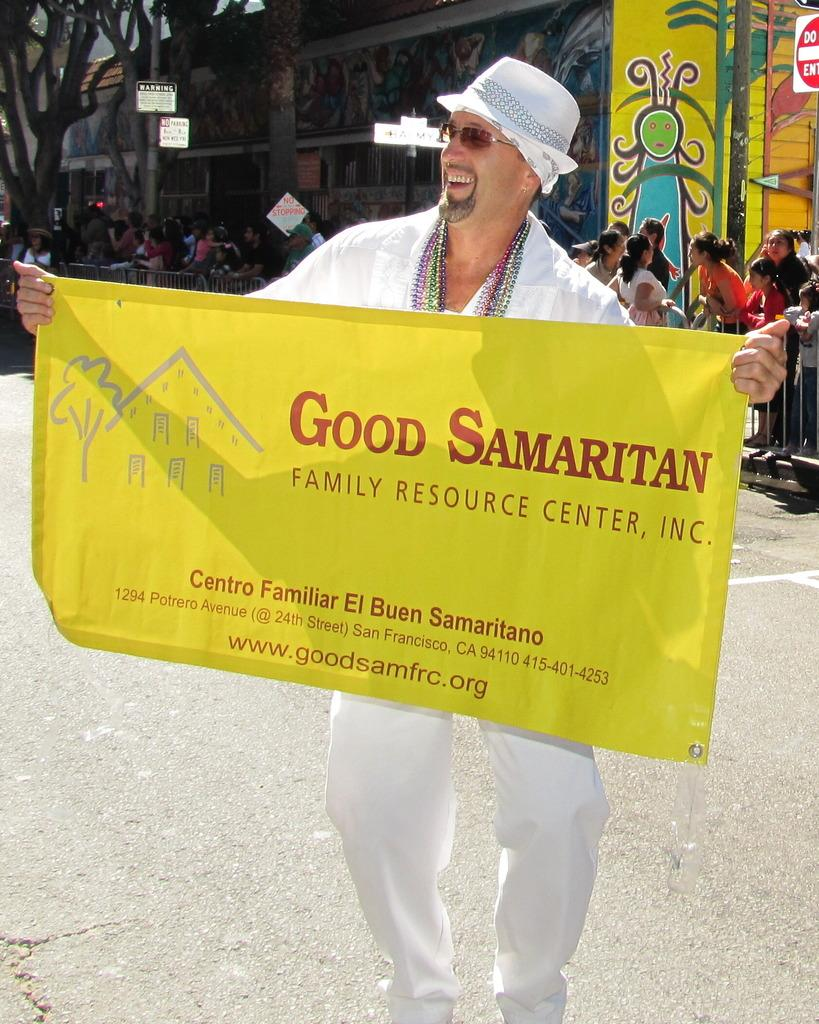Hat: (434, 56, 580, 194)
